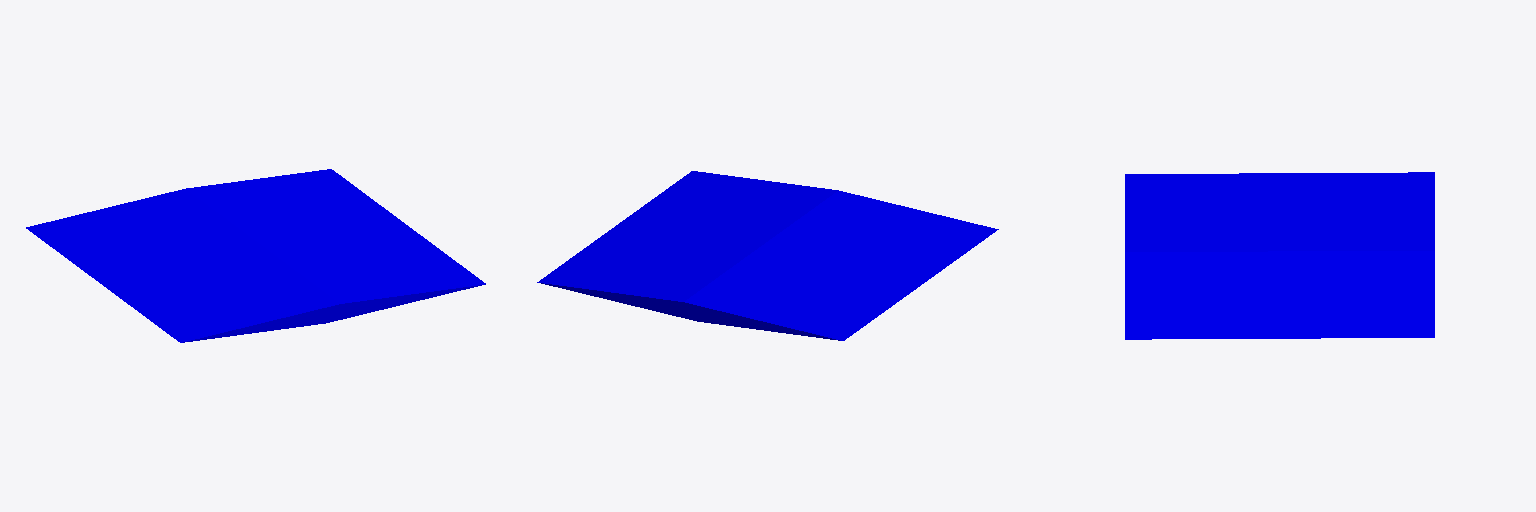
Rendered from planes_1-dynamic - BLK2GO-3630355-Scan 080 47.obj.
The picture shows the model from 3 angles: view 1: azimuth 30°, elevation 25°; view 2: azimuth 150°, elevation 25°; view 3: azimuth 270°, elevation 25°; orthographic projection.
Visible parts, largest first — view 1: 1-dynamic_-_BLK2GO-[number redacted]-Scan_080_47_0; view 2: 1-dynamic_-_BLK2GO-[number redacted]-Scan_080_47_0; view 3: 1-dynamic_-_BLK2GO-[number redacted]-Scan_080_47_0.
Part boxes in pixels (x1,y1,x2,y2): 1-dynamic_-_BLK2GO-[number redacted]-Scan_080_47_0: (26,169,485,342); 1-dynamic_-_BLK2GO-[number redacted]-Scan_080_47_0: (537,171,998,340); 1-dynamic_-_BLK2GO-[number redacted]-Scan_080_47_0: (1125,172,1434,339).
Bounding box in the file's own units: 1.93 × 0.1072 × 1.7.